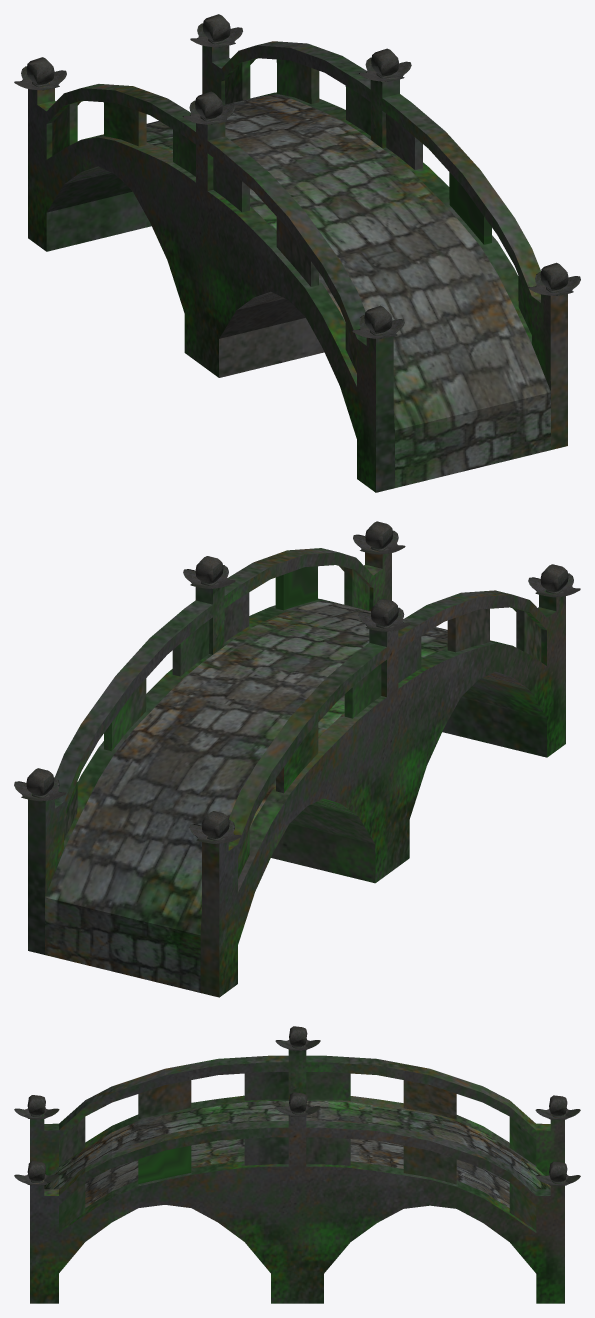
File: NNJ0710006.fbx
3 views of the same model, one above another, from view 1: azimuth 30°, elevation 25°; view 2: azimuth 150°, elevation 25°; view 3: azimuth 270°, elevation 25° (orthographic). The views are drawn at different scales.
Parts seen in each view (by area): view 1: smNNJ0710006; view 2: smNNJ0710006; view 3: smNNJ0710006.
Part boxes in pixels (x1,y1,x2,y2): smNNJ0710006: (14, 14, 580, 492); smNNJ0710006: (14, 521, 580, 997); smNNJ0710006: (14, 1026, 580, 1303).
Size of the model in its own units: 364 by 410 by 1017.
1 material, 1 textured.
